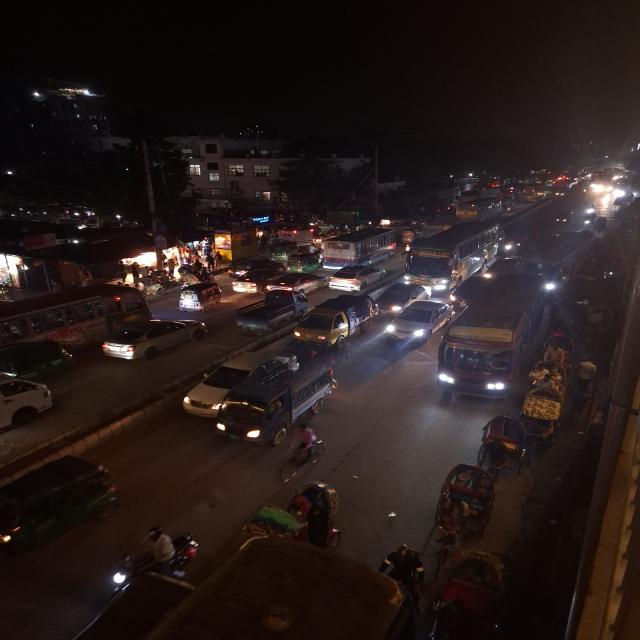bus: (438, 276, 546, 401), (0, 282, 150, 347), (402, 220, 502, 289), (318, 228, 400, 266), (456, 198, 501, 222)
car: (98, 316, 208, 363), (0, 367, 63, 448), (178, 364, 245, 416), (388, 300, 447, 345), (326, 264, 385, 292), (374, 282, 429, 312), (265, 271, 325, 297), (230, 266, 284, 294)
cng: (0, 454, 112, 552), (0, 338, 73, 380), (175, 281, 225, 314), (286, 252, 320, 272), (270, 240, 294, 260), (552, 210, 572, 225)
pickup_van: (220, 363, 340, 443), (299, 298, 372, 350), (233, 291, 304, 336)
rickshaw: (238, 478, 347, 552), (431, 548, 518, 640), (475, 414, 534, 478), (519, 385, 567, 443), (578, 302, 615, 342), (541, 333, 576, 373), (174, 265, 202, 285)
